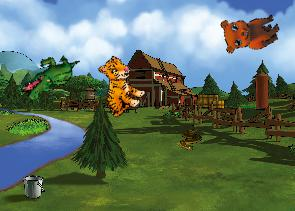bear: (215, 0, 284, 61)
crocodile: (18, 42, 81, 111)
tiger: (83, 52, 152, 122)
